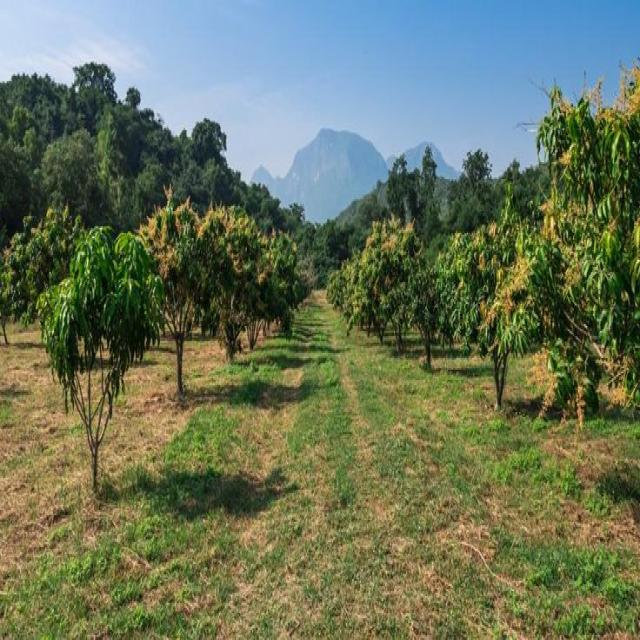Mango-Tree: (344, 203, 599, 375), (152, 188, 309, 350), (56, 244, 140, 492)
